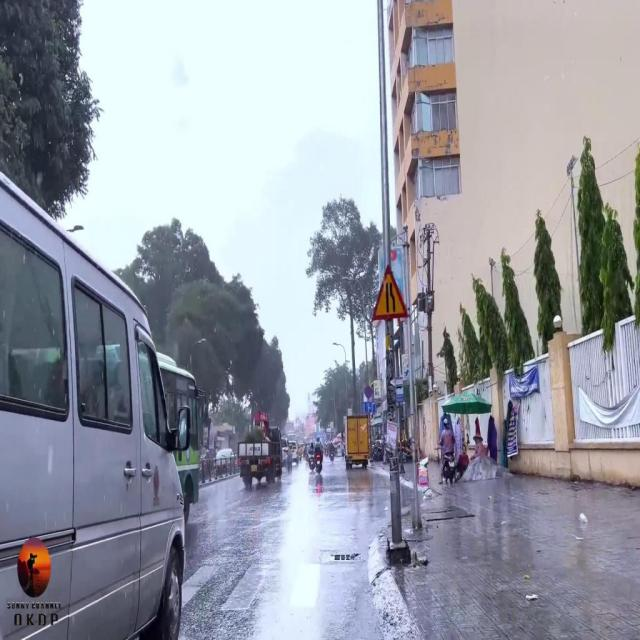cam_do_xe: (364, 382, 374, 400)
huong_di_tren_moi_lan_duong_theo_vach_ke_duong: (362, 400, 376, 415)
khac: (370, 259, 409, 323)
